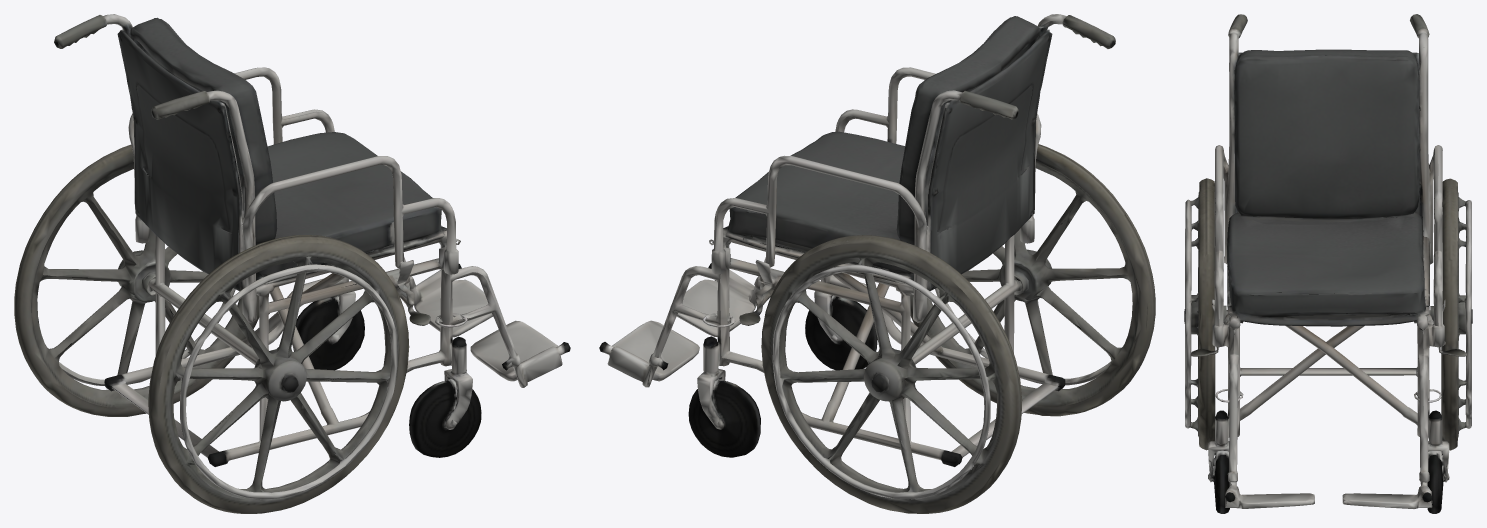
3 views of the same model, side by side, from view 1: azimuth 30°, elevation 25°; view 2: azimuth 150°, elevation 25°; view 3: azimuth 270°, elevation 25° (orthographic). The views are drawn at different scales.
Visible parts, largest first — view 1: repaired; view 2: repaired; view 3: repaired.
Boxes of the visible parts, x1=… form: repaired: x1=14, y1=14, x2=570, y2=513; repaired: x1=599, y1=14, x2=1155, y2=513; repaired: x1=1184, y1=14, x2=1472, y2=513.
Bounding box in the file's own units: 0.9993 × 0.9317 × 0.6351.
1 material, 1 textured.
